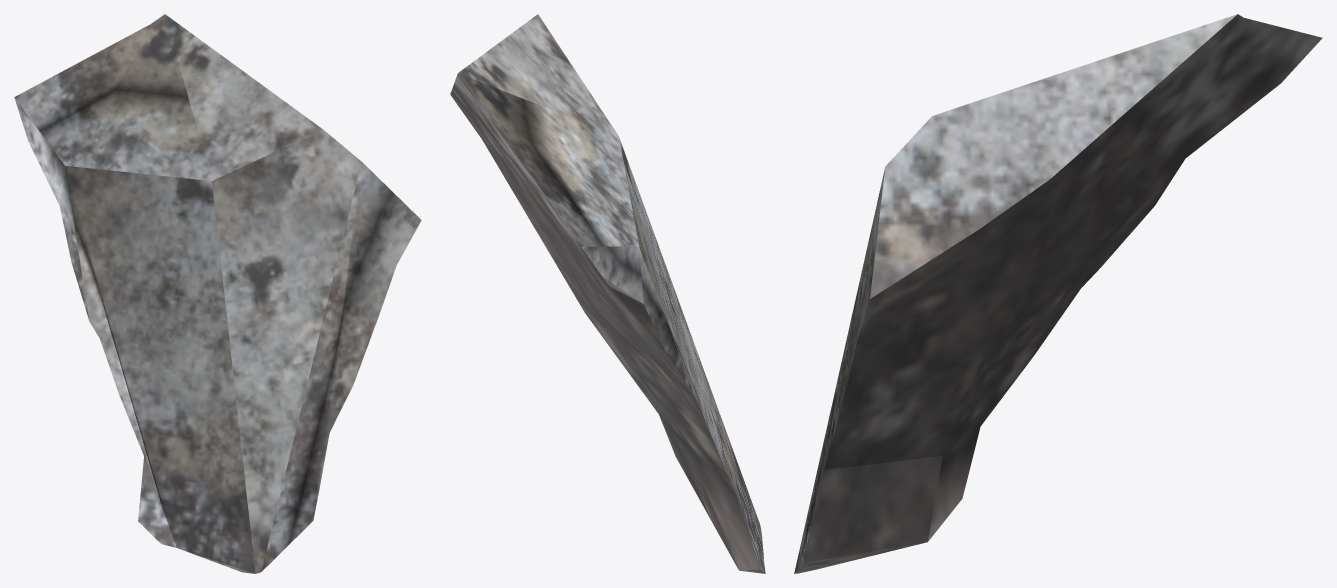
File: Asteroid_Large_001_02_008_03_001.fbx
The picture shows the model from 3 angles, left to right: view 1: azimuth 30°, elevation 25°; view 2: azimuth 150°, elevation 25°; view 3: azimuth 270°, elevation 25°; orthographic projection. The views are drawn at different scales.
Visible parts, largest first — view 1: Asteroid_Large_001_02_008_03_001; view 2: Asteroid_Large_001_02_008_03_001; view 3: Asteroid_Large_001_02_008_03_001.
Part boxes in pixels (x1=…): Asteroid_Large_001_02_008_03_001: x1=14, y1=14, x2=421, y2=573; Asteroid_Large_001_02_008_03_001: x1=450, y1=14, x2=765, y2=573; Asteroid_Large_001_02_008_03_001: x1=794, y1=14, x2=1322, y2=573.
Bounding box in the file's own units: 4.46 × 7.33 × 5.79.
